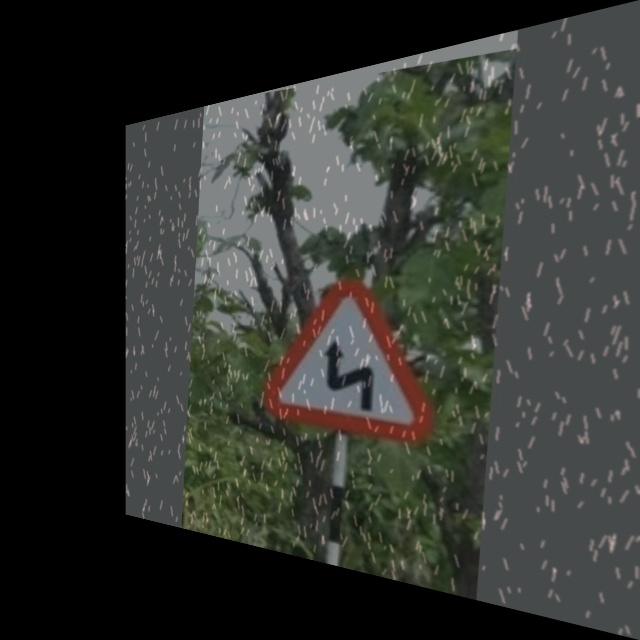Left_Reverse_Bend: (262, 273, 446, 449)
